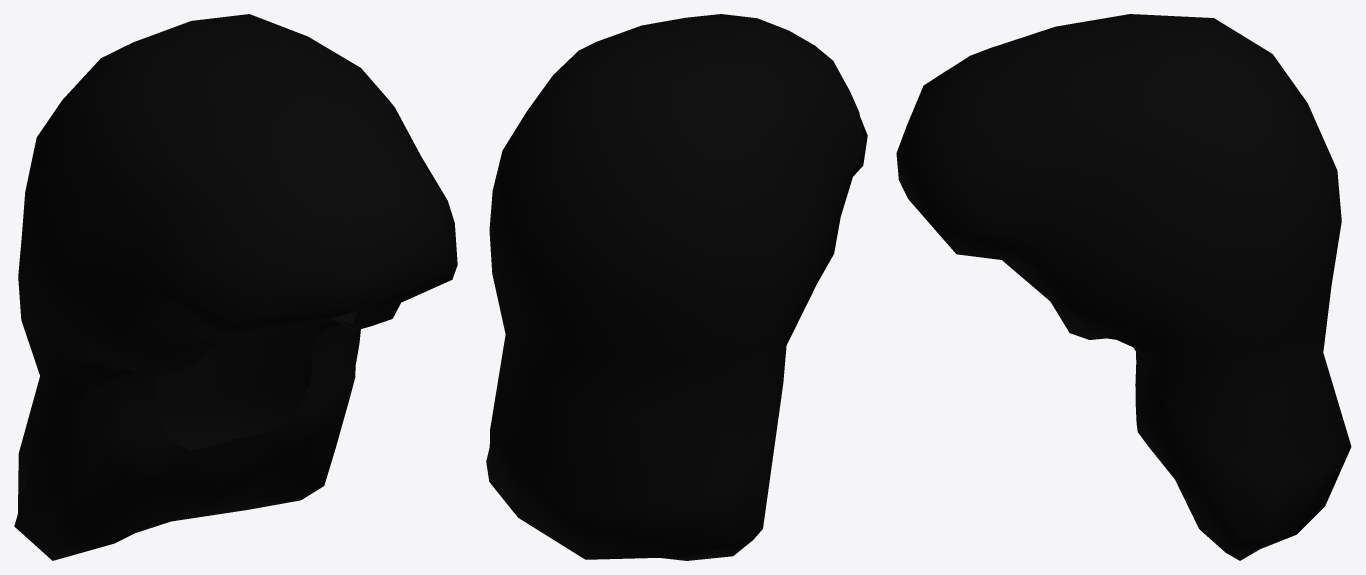
The model's file is NPC_BlackHair2.gltf.
3 renders of one model, left to right at view 1: azimuth 30°, elevation 25°; view 2: azimuth 150°, elevation 25°; view 3: azimuth 270°, elevation 25°, orthographic. The views are drawn at different scales.
Visible parts, largest first — view 1: NPC_BlackHair.002; view 2: NPC_BlackHair.002; view 3: NPC_BlackHair.002.
Boxes of the visible parts, x1,y1,x2,y2 form: NPC_BlackHair.002: [14, 14, 457, 560]; NPC_BlackHair.002: [486, 14, 867, 560]; NPC_BlackHair.002: [896, 14, 1351, 560].
Bounding box in the file's own units: 0.5966 × 0.8927 × 0.7706.
1 material, 1 textured.
